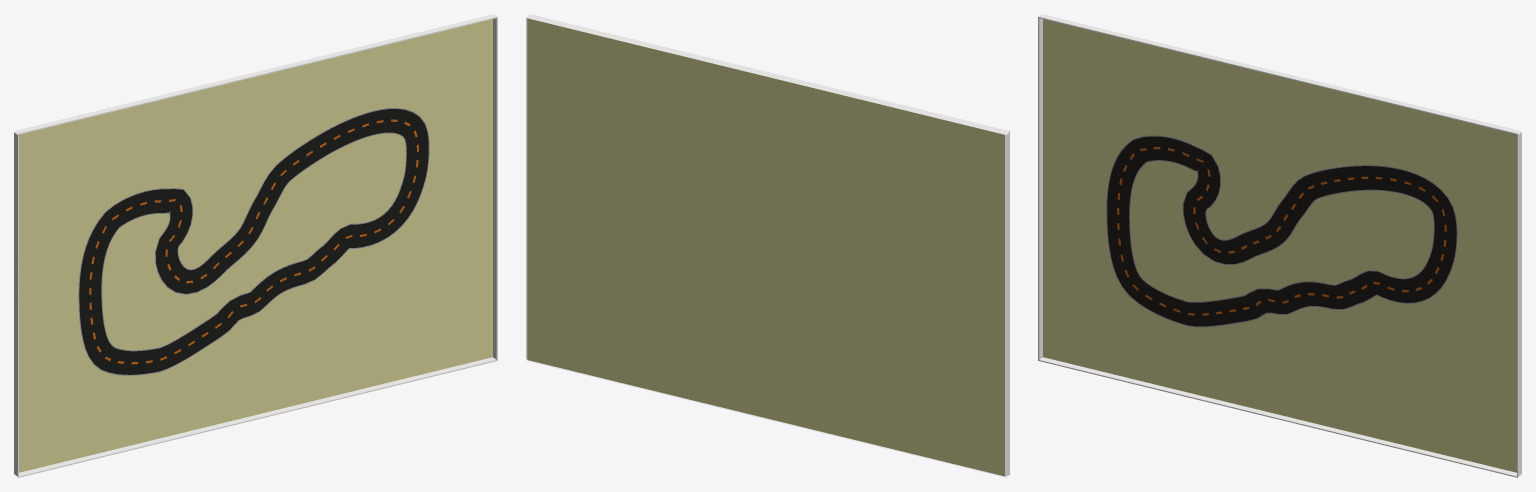
The model's file is track.obj.
3 renders of one model, left to right at view 1: azimuth 30°, elevation 25°; view 2: azimuth 150°, elevation 25°; view 3: azimuth 330°, elevation 25°, orthographic.
Size of the model in its own units: 21.54 by 14.76 by 0.3.
5 materials, 5 textured.
